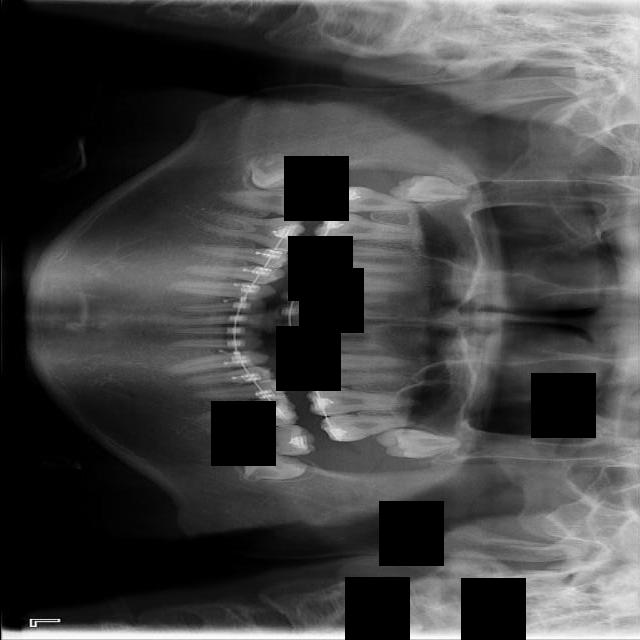3M ESPE Implant: (388, 173, 471, 203)
73: (40, 600, 48, 605)
BioHorizons Implant: (318, 413, 430, 443)
BioLife Implant: (373, 425, 461, 464)
Biomet 3i Implant: (238, 448, 308, 484)
Blue Sky Bio Implant: (218, 423, 315, 458)
Caries: (325, 186, 436, 212)
Implant: (217, 186, 316, 218)
Keystone Dental Implant: (246, 148, 314, 194)
